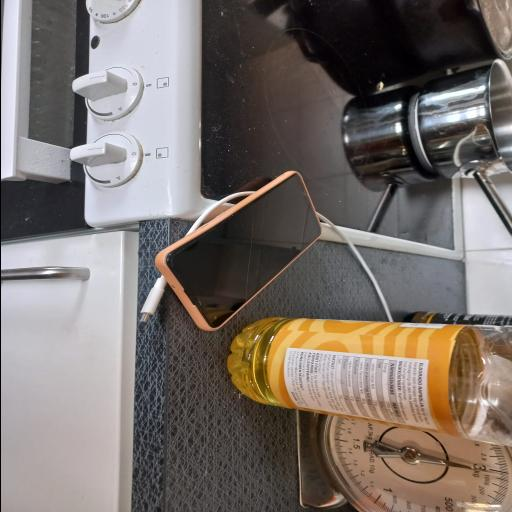phone: (155, 172, 319, 330)
